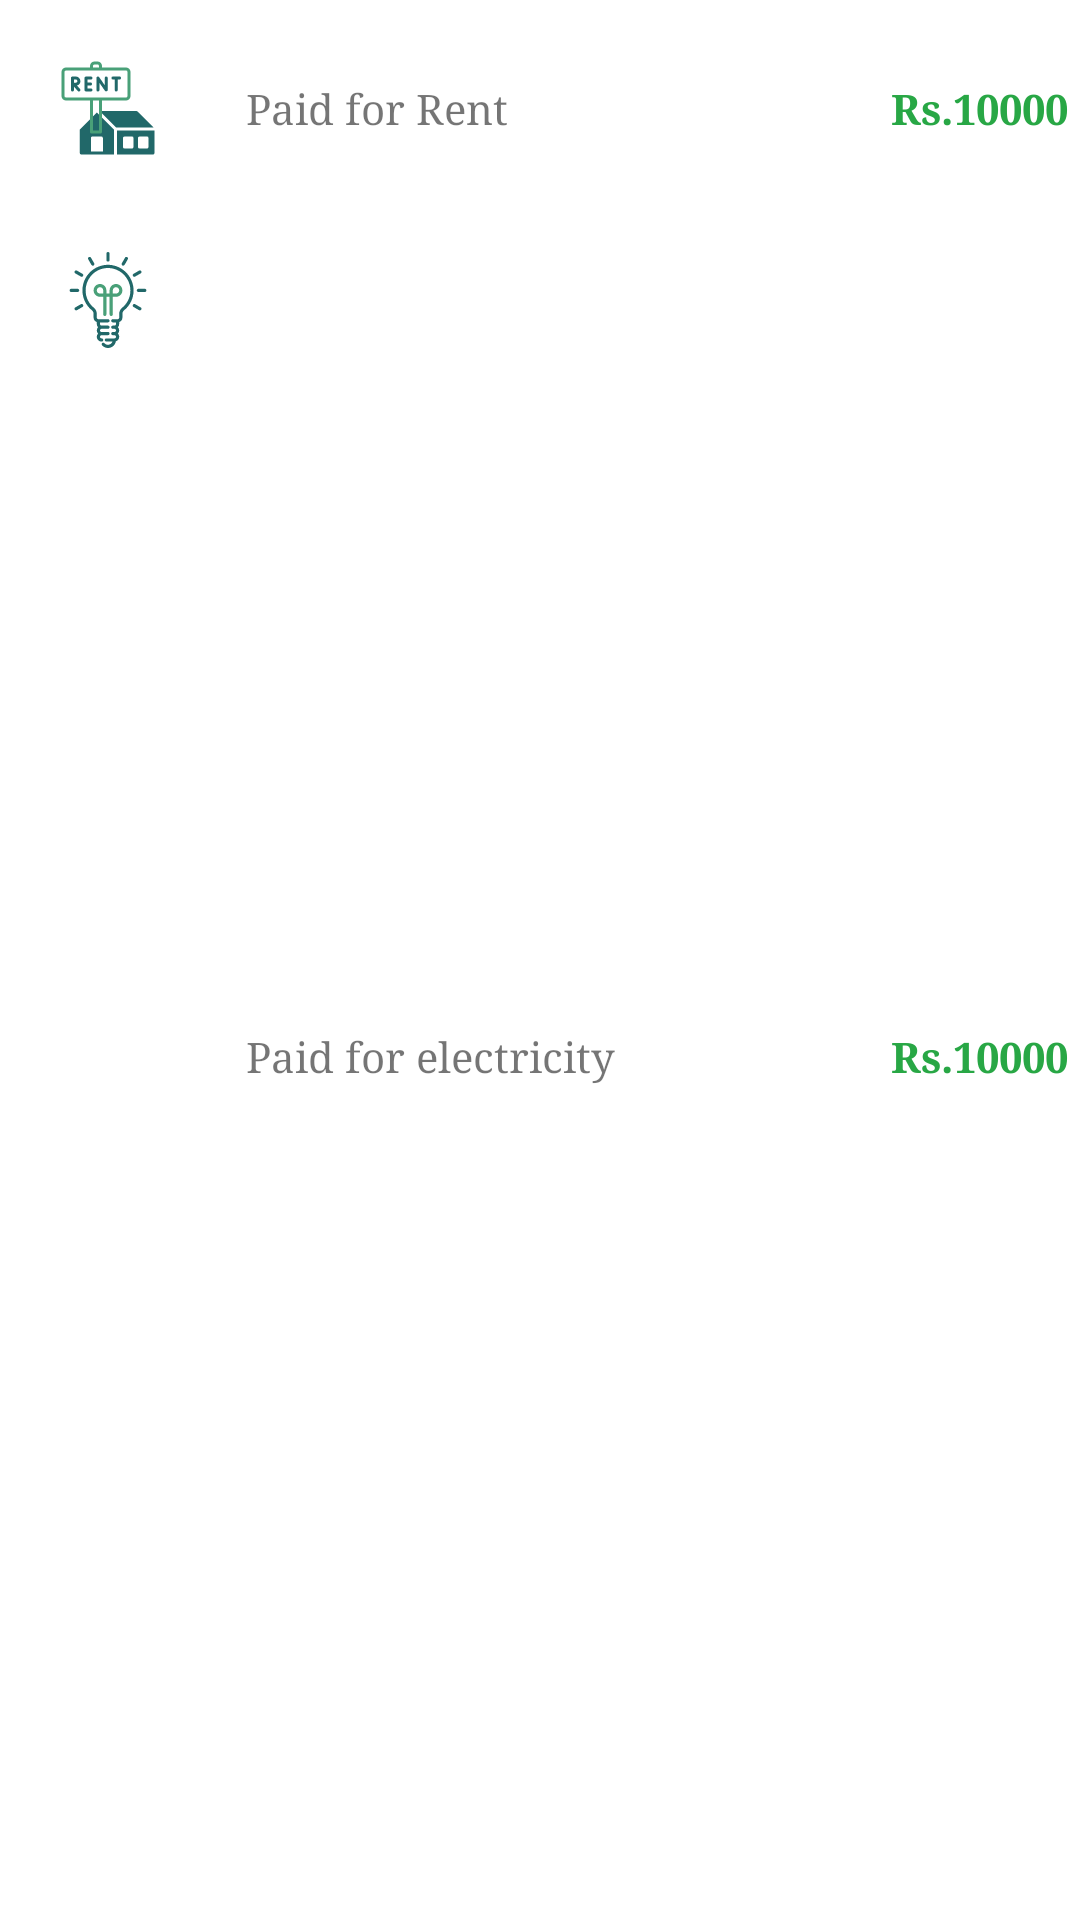

Where icons sit on this 1080x1920 app screen, as (x1, y1, x2, y2):
electricity: (69, 252, 147, 348)
